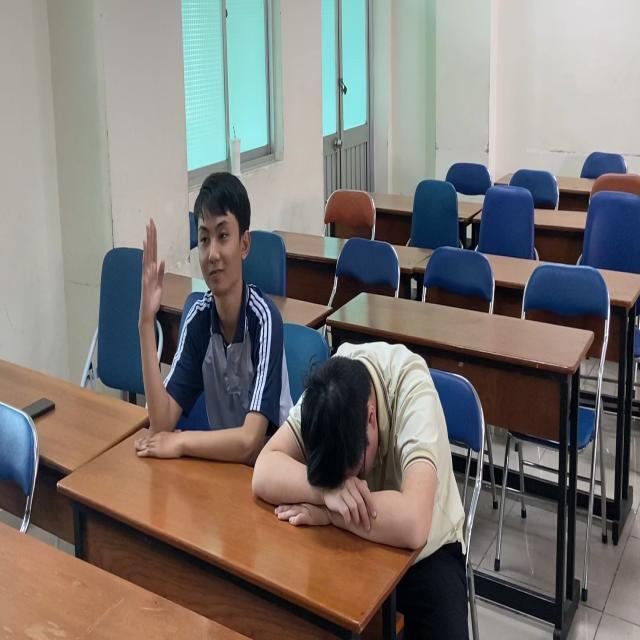raise_hand: (136, 168, 261, 439)
sleep: (254, 333, 451, 564)
